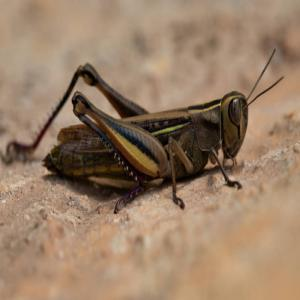locust: (9, 45, 276, 219)
